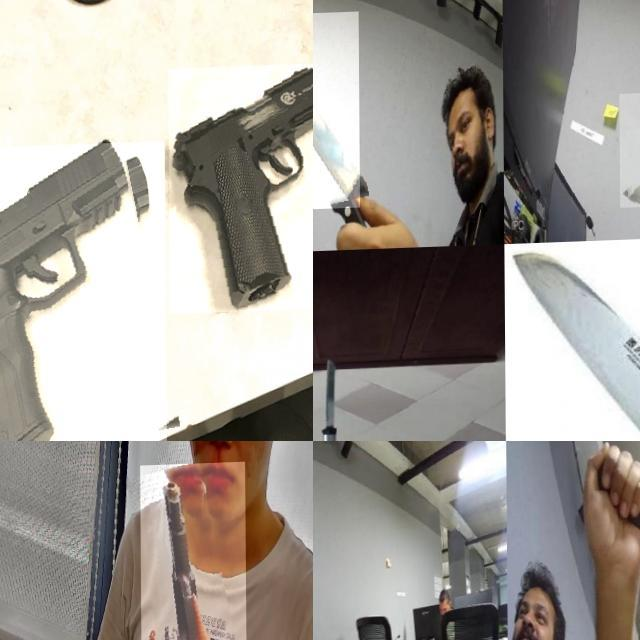-: (508, 247, 640, 441), (313, 13, 359, 211), (313, 359, 385, 439)
gun-knife-thesis - v11 Yolov5 augmented: (0, 143, 166, 441), (167, 66, 313, 316), (139, 465, 246, 640)
